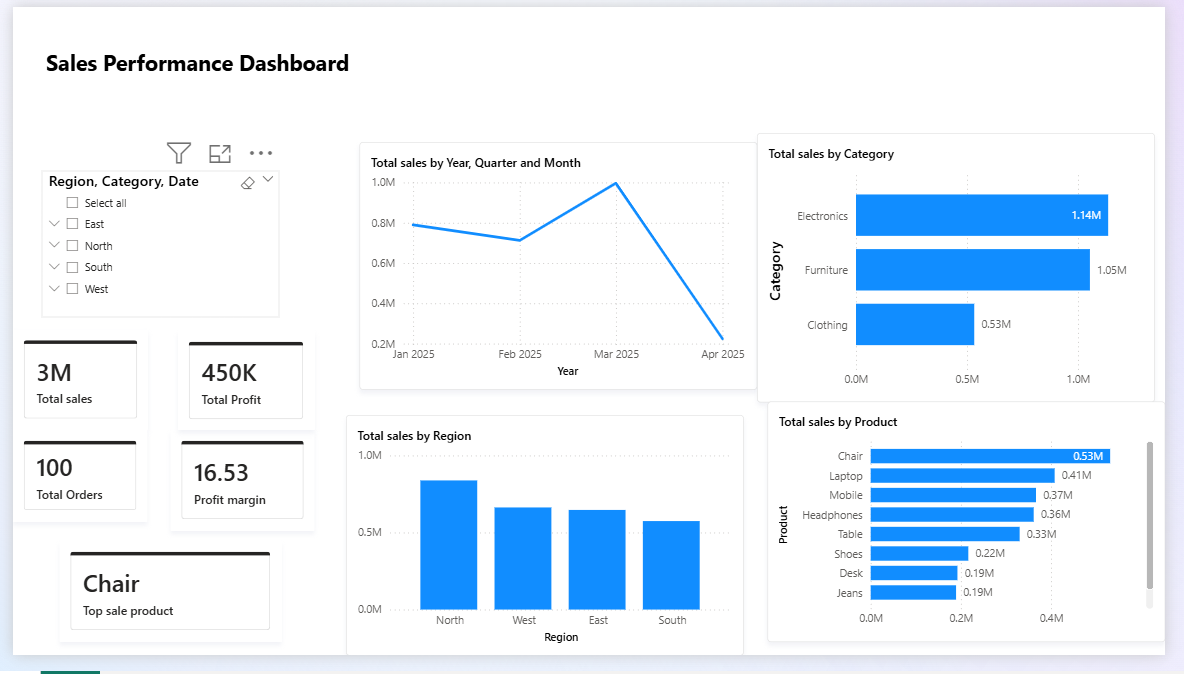

The page's visual inventory and layout, read from the dashboard file:
{"tool":"powerbi","page":{"name":"Page 1","canvas":[1280,720],"ordinal":0},"visuals":[{"type":"cardVisual","fields":{"Data":["SalesData.Total sales"]},"box":[0,358.3,150,111.7],"z":0},{"type":"cardVisual","fields":{"Data":["SalesData.Total Orders"]},"box":[0,470.8,149.5,101.8],"z":1000},{"type":"cardVisual","fields":{"Data":["SalesData.Profit margin"]},"box":[175,470,160,111.7],"z":2000},{"type":"lineChart","fields":{"Category":["SalesData.Date.Variation.Date Hierarchy.Year","SalesData.Date.Variation.Date Hierarchy.Quarter","SalesData.Date.Variation.Date Hierarchy.Month","SalesData.Date.Variation.Date Hierarchy.Day"],"Y":["SalesData.Total sales"]},"box":[369,140,458.1,299],"z":3000},{"type":"barChart","fields":{"Category":["SalesData.Category"],"Y":["SalesData.Total sales"]},"box":[827.1,140,453.3,299],"z":4000},{"type":"clusteredColumnChart","fields":{"Category":["SalesData.Region"],"Y":["SalesData.Total sales"]},"box":[369,439,458.1,281.5],"z":5000},{"type":"barChart","fields":{"Category":["SalesData.Product"],"Y":["SalesData.Total sales"]},"box":[827.1,439,453.3,281.5],"z":6000},{"type":"slicer","fields":{"Values":["SalesData.Region","SalesData.Category","SalesData.Date"]},"box":[31.8,181.3,265.6,163.8],"z":7000},{"type":"textbox","box":[31.7,40,438.3,68.3],"z":8000},{"type":"cardVisual","fields":{"Data":["SalesData.Top product"]},"box":[51.7,593.3,246.7,111.7],"z":9000},{"type":"cardVisual","fields":{"Data":["SalesData.Total Profit"]},"box":[183.3,360,151.7,110],"z":10000}]}

Visuals, with their boxes in screenshot pixels (x1, y1, x2, y2), scaled from the page's 1280x720 canvas onto the 1184x674 screenshot:
cardVisual - SalesData.Total sales: [x1=0, y1=335, x2=139, y2=440]
cardVisual - SalesData.Total Orders: [x1=0, y1=441, x2=138, y2=536]
cardVisual - SalesData.Profit margin: [x1=162, y1=440, x2=310, y2=545]
lineChart - SalesData.Date.Variation.Date Hierarchy.Year x SalesData.Date.Variation.Date Hierarchy.Quarter: [x1=341, y1=131, x2=765, y2=411]
barChart - SalesData.Category x SalesData.Total sales: [x1=765, y1=131, x2=1183, y2=411]
clusteredColumnChart - SalesData.Region x SalesData.Total sales: [x1=341, y1=411, x2=765, y2=673]
barChart - SalesData.Product x SalesData.Total sales: [x1=765, y1=411, x2=1183, y2=673]
slicer - SalesData.Region x SalesData.Category: [x1=29, y1=170, x2=275, y2=323]
textbox: [x1=29, y1=37, x2=435, y2=101]
cardVisual - SalesData.Top product: [x1=48, y1=555, x2=276, y2=660]
cardVisual - SalesData.Total Profit: [x1=170, y1=337, x2=310, y2=440]
